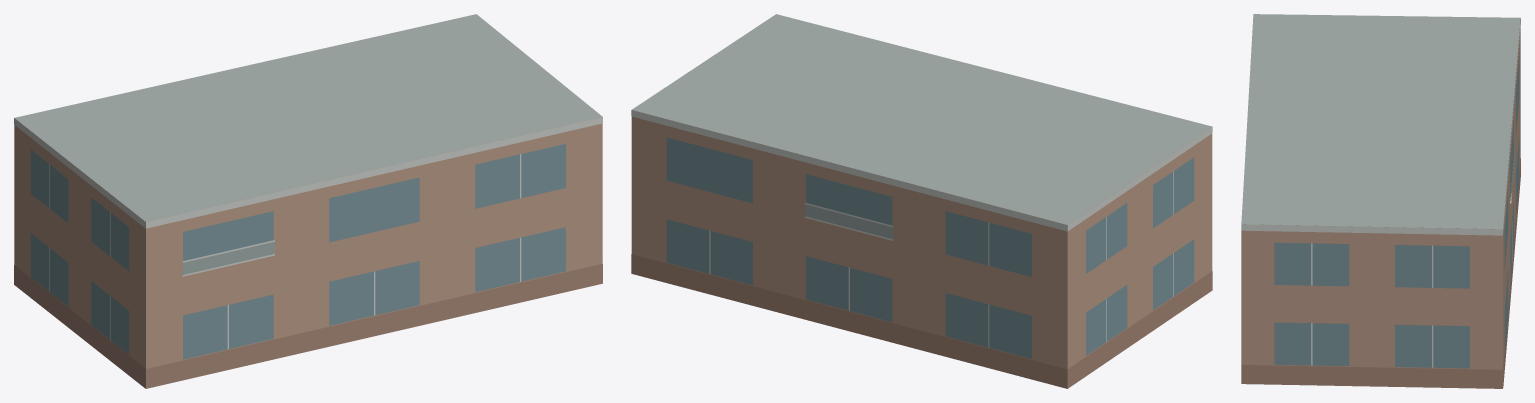
The model's file is survey-upis-32605399.glb.
3 renders of one model, left to right at view 1: azimuth 30°, elevation 25°; view 2: azimuth 150°, elevation 25°; view 3: azimuth 270°, elevation 25°, orthographic. The views are drawn at different scales.
Parts seen in each view (by area): view 1: survey-upis-32605399.tmp; view 2: survey-upis-32605399.tmp; view 3: survey-upis-32605399.tmp.
Boxes of the visible parts, x1,y1,x2,y2 form: survey-upis-32605399.tmp: (14,14,602,388); survey-upis-32605399.tmp: (631,14,1212,388); survey-upis-32605399.tmp: (1241,14,1520,388).
Bounding box in the file's own units: 17.65 × 6.1 × 9.69.
